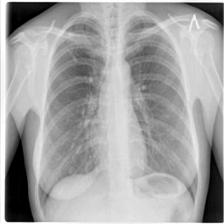tuberculosis: (34, 14, 202, 214)
